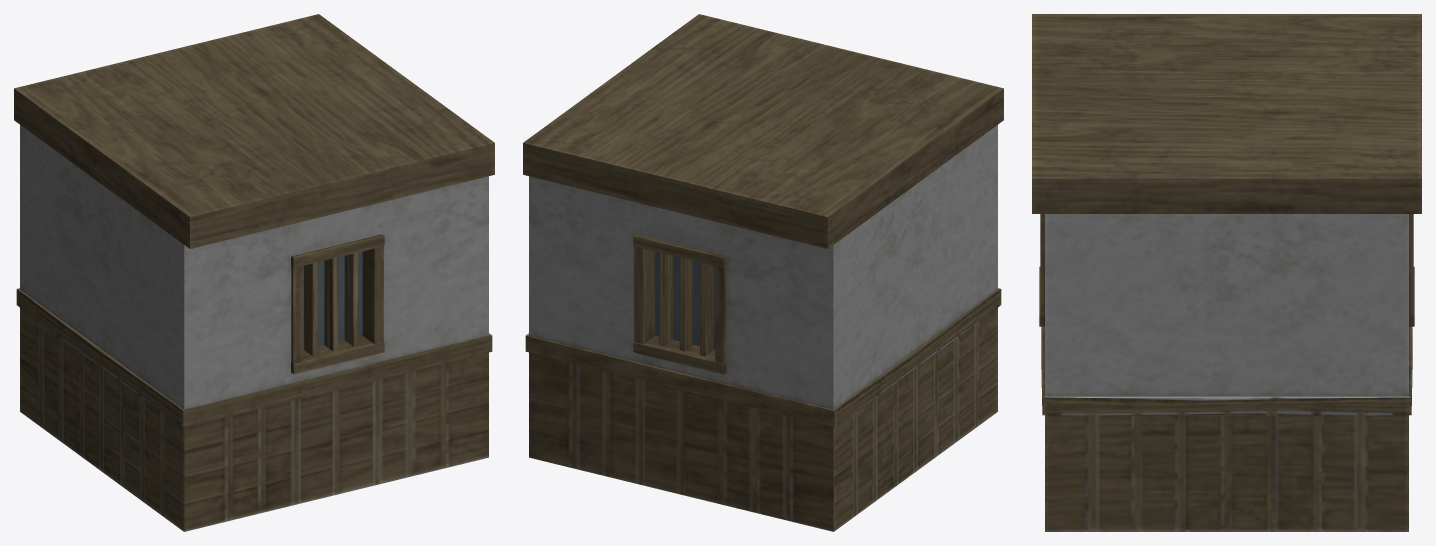
Rendered from sb_obj_outdoor028_house02_wall03.fbx.
3 renders of one model, left to right at view 1: azimuth 30°, elevation 25°; view 2: azimuth 150°, elevation 25°; view 3: azimuth 270°, elevation 25°, orthographic. The views are drawn at different scales.
Visible parts, largest first — view 1: sb_obj_outdoor028_house02_wall03; view 2: sb_obj_outdoor028_house02_wall03; view 3: sb_obj_outdoor028_house02_wall03.
Boxes of the visible parts, bbox=[...] form: sb_obj_outdoor028_house02_wall03: bbox=[14, 14, 494, 531]; sb_obj_outdoor028_house02_wall03: bbox=[523, 14, 1003, 531]; sb_obj_outdoor028_house02_wall03: bbox=[1032, 14, 1421, 531].
Bounding box in the file's own units: 3.06 × 3 × 3.
1 material, 1 textured.
